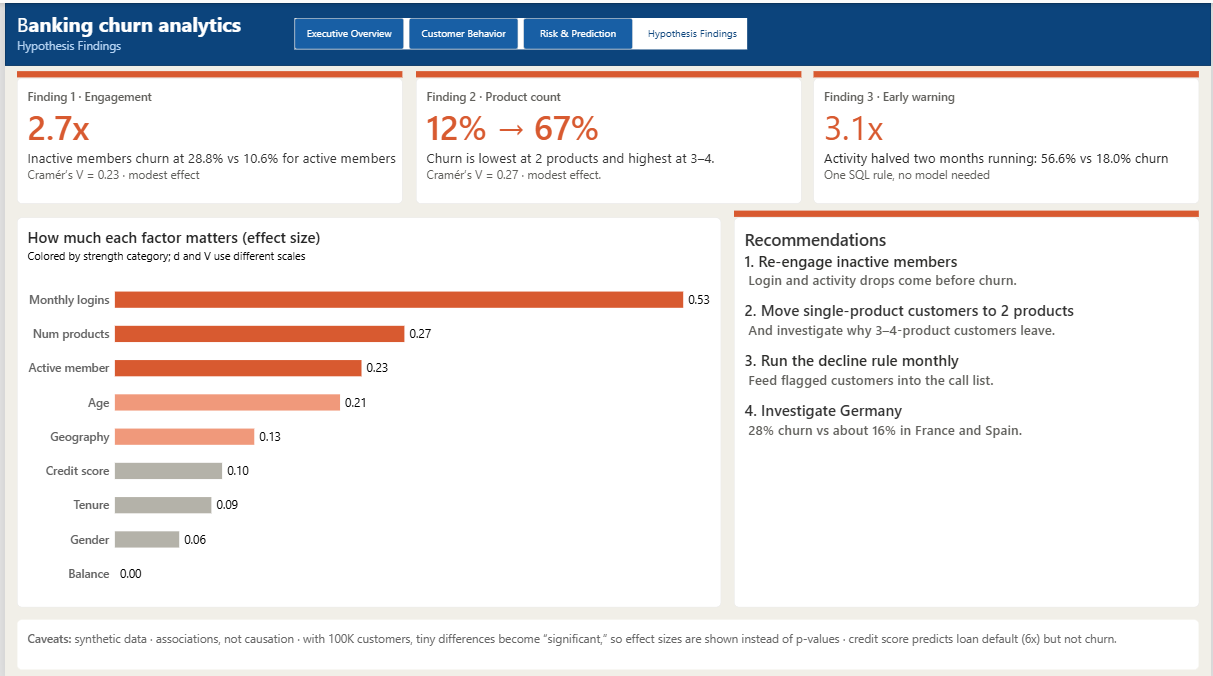

What the dashboard file says about the page in this screenshot:
{"tool":"powerbi","page":{"name":"Hypothesis Findings","canvas":[1920,1080],"ordinal":3},"visuals":[{"type":"shape","box":[0,0,1920,100],"z":0},{"type":"textbox","box":[20,12,400,45],"z":1000},{"type":"textbox","box":[20,55,400,35],"z":2000},{"type":"pageNavigator","box":[460,25,720,50],"z":3000},{"type":"clusteredBarChart","title":"How much each factor matters (effect size)","fields":{"Category":["Effect Sizes.Variable"],"Y":["Sum(Effect Sizes.Effect size)"]},"box":[20,340,1120,620],"z":4000},{"type":"textbox","box":[20,120,613,200],"z":5000},{"type":"shape","box":[19.1,107.4,613,12],"z":6000},{"type":"textbox","box":[653,120,613,200],"z":7000},{"type":"shape","box":[652.8,106.9,613,12],"z":8000},{"type":"textbox","box":[1286,120,613,200],"z":9000},{"type":"shape","box":[1285.5,106.9,613,12],"z":10000},{"type":"textbox","box":[1160,341,740,620],"z":11000},{"type":"textbox","box":[20,980,1880,80],"z":12001},{"type":"shape","box":[1159.6,329.3,739.6,11.9],"z":13001}]}

Visuals, with their boxes in screenshot pixels (x1, y1, x2, y2), scaled from the page's 1920x1080 canvas onto the 1213x676 screenshot:
shape: BBox(0, 0, 1212, 63)
textbox: BBox(13, 8, 265, 36)
textbox: BBox(13, 34, 265, 56)
pageNavigator: BBox(291, 16, 745, 47)
"How much each factor matters (effect size)" clusteredBarChart: BBox(13, 213, 720, 601)
textbox: BBox(13, 75, 400, 200)
shape: BBox(12, 67, 399, 75)
textbox: BBox(413, 75, 800, 200)
shape: BBox(412, 67, 800, 74)
textbox: BBox(812, 75, 1200, 200)
shape: BBox(812, 67, 1199, 74)
textbox: BBox(733, 213, 1200, 602)
textbox: BBox(13, 613, 1200, 663)
shape: BBox(733, 206, 1200, 214)
